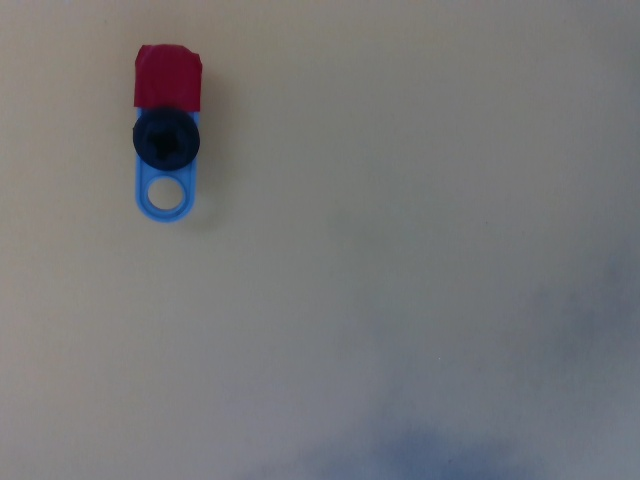part_1_good: (129, 38, 208, 228)
